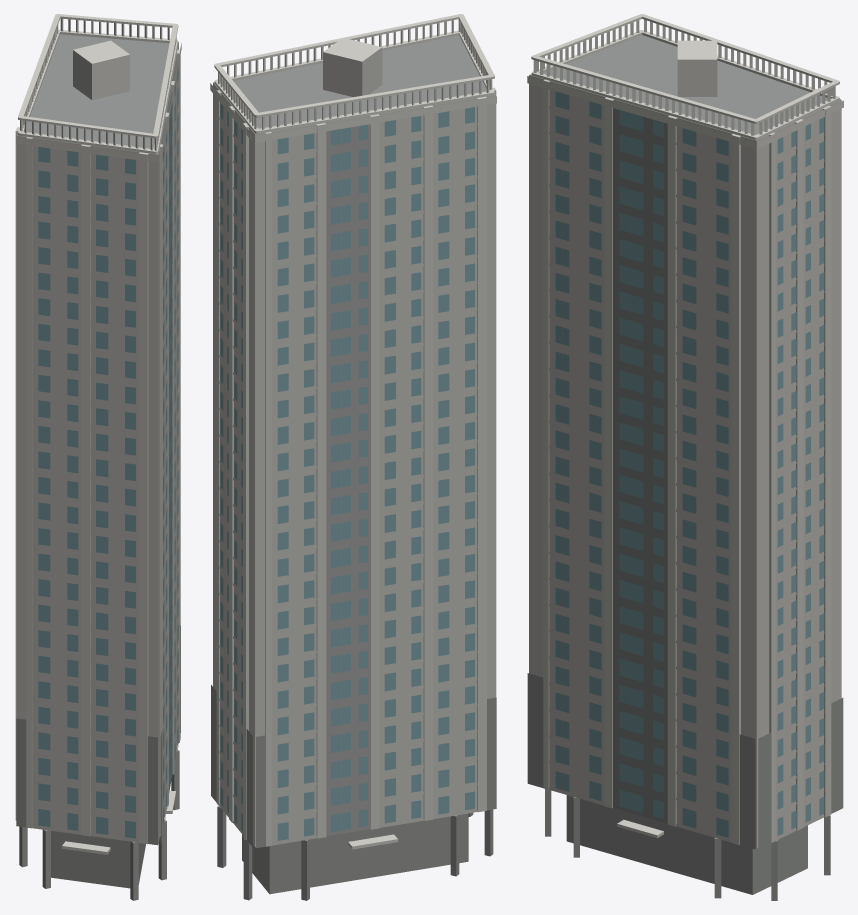
Rendered from maple-xi-112.glb.
3 views of the same model, side by side, from view 1: azimuth 30°, elevation 25°; view 2: azimuth 150°, elevation 25°; view 3: azimuth 270°, elevation 25° (orthographic). The views are drawn at different scales.
Parts seen in each view (by area): view 1: maple-xi-112; view 2: maple-xi-112; view 3: maple-xi-112.
Part boxes in pixels (x1=…): maple-xi-112: x1=15, y1=14, x2=181, y2=900; maple-xi-112: x1=210, y1=14, x2=496, y2=900; maple-xi-112: x1=527, y1=14, x2=843, y2=900.
Size of the model in its own units: 27.97 by 94.56 by 33.73.
